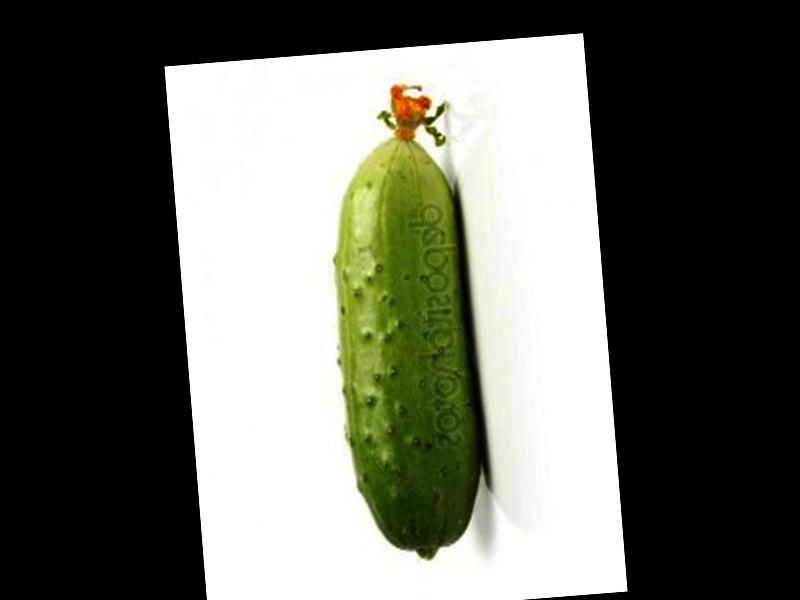Cucumber: (319, 83, 493, 566)
